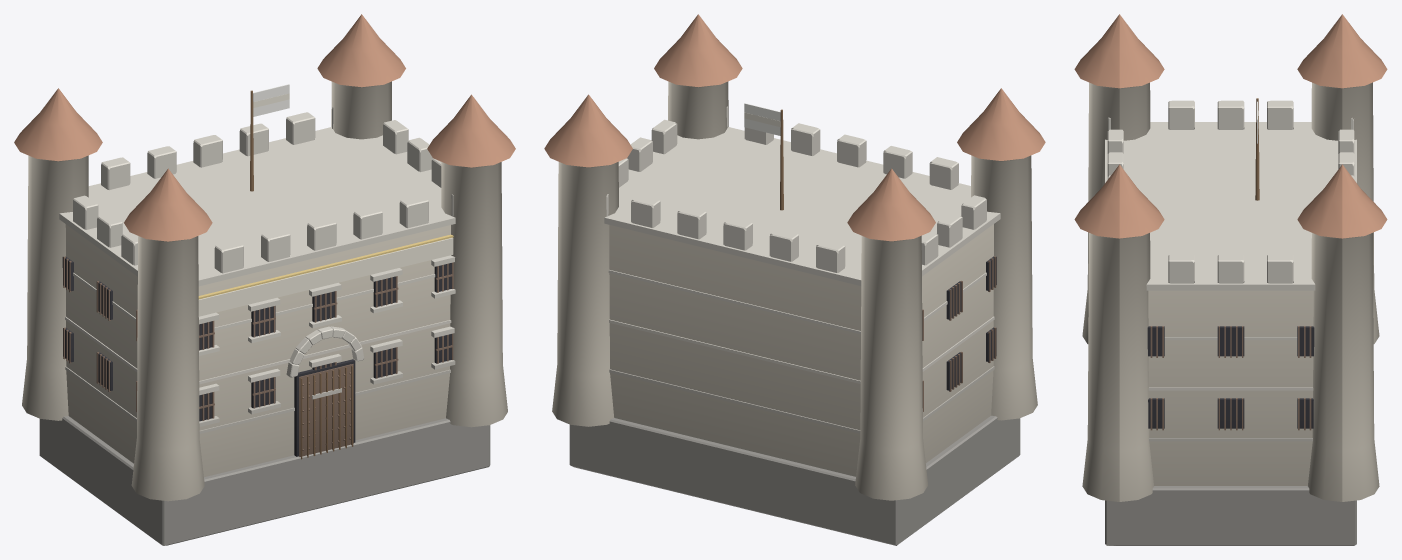
Rendered from zellenblock_marine.glb.
3 renders of one model, left to right at view 1: azimuth 30°, elevation 25°; view 2: azimuth 150°, elevation 25°; view 3: azimuth 270°, elevation 25°, orthographic.
Parts seen in each view (by area): view 1: G_zellenblock_marine; view 2: G_zellenblock_marine; view 3: G_zellenblock_marine.
Boxes of the visible parts, box(x1,y1,x2,y2) form: G_zellenblock_marine: box(14, 14, 515, 545); G_zellenblock_marine: box(544, 14, 1045, 545); G_zellenblock_marine: box(1074, 14, 1387, 545).
Bounding box in the file's own units: 16.8 × 15.65 × 11.8.
